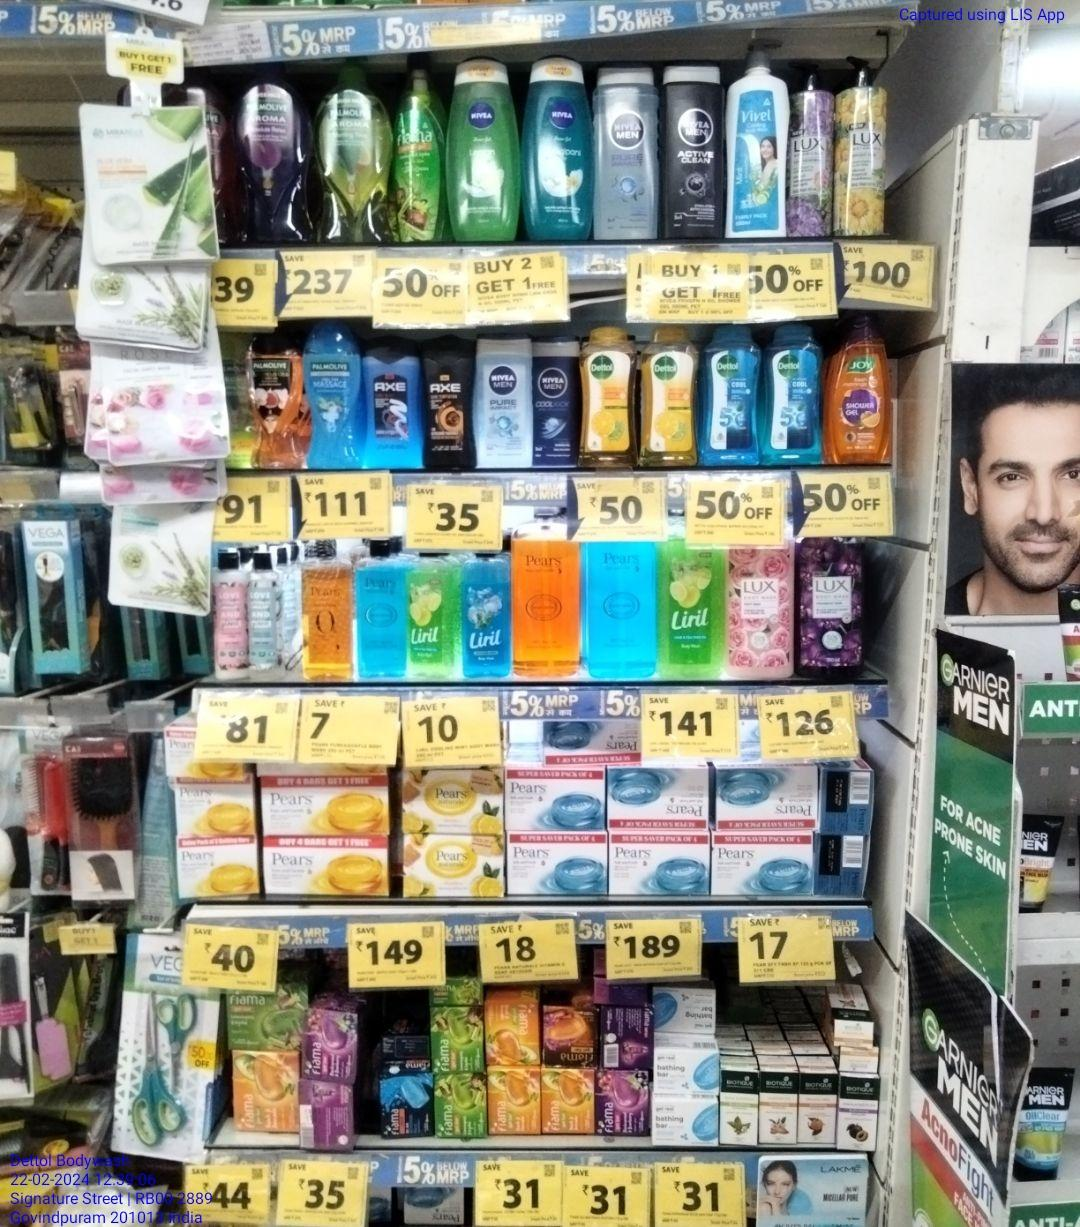Dettol_Bodywash_Cool: (763, 320, 821, 463), (701, 322, 759, 465)
Dettol_Bodywash_Refresh: (637, 322, 698, 466), (580, 323, 635, 468)
Joy_Shower_Gel_Mandarin_and_Lemongrass_250ML: (825, 313, 890, 462)
Liril_Cooling_Mint_Body_Wash_250ML: (461, 548, 511, 676)
Liril_Lime_and_Tea_Tree_Oil_Body_Wash_250ML: (409, 549, 458, 675)
Nivea_Shower_Gel_Frangipani_and_Oil_250ML: (522, 52, 594, 242)
Nivea_Shower_Gel_Lemon_and_Oil_250ML: (450, 54, 517, 241)
Palmolive_Aroma_Moments_Feel_The_Massage_Shower_Gel_250ML: (309, 319, 363, 466)
Palmolive_Luminous_Oils_With_White_Orchid_Shower_Gel_250ML: (247, 322, 306, 471)
Pears_Pure_Glycerin_and_Mint_Extracts_Body_Wash_250ML: (354, 539, 407, 679)
